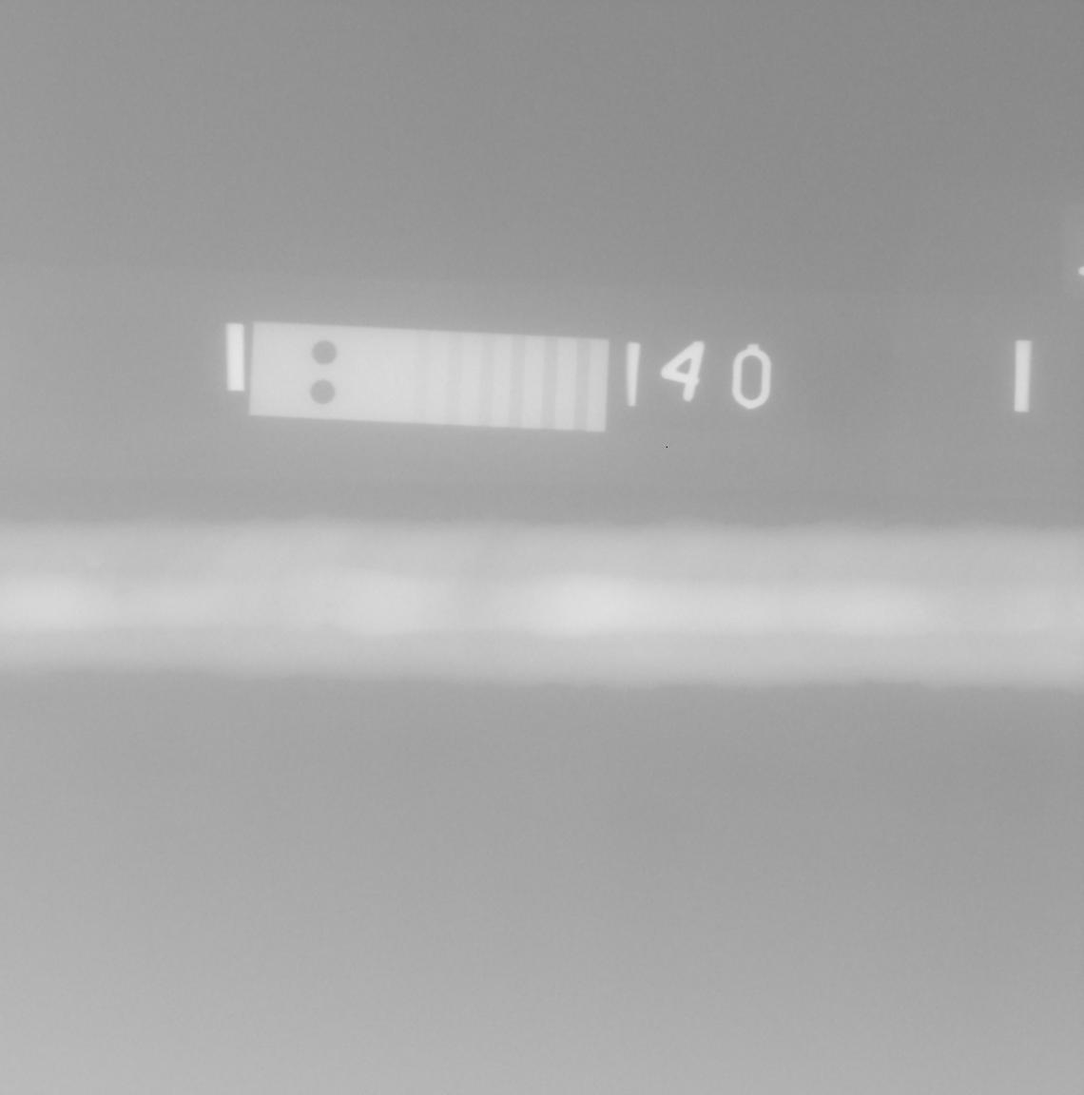Inclusion: (109, 586, 132, 599), (118, 591, 123, 595)
Pore/Porosity: (326, 602, 332, 609)
Reference Standard 2: (249, 321, 609, 433)
